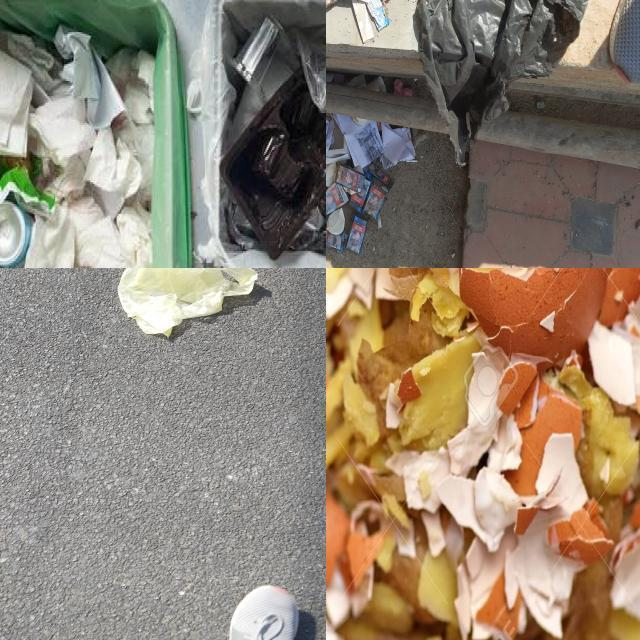Background: (0, 268, 326, 640)
Cig_pack: (349, 164, 394, 220), (367, 164, 394, 194), (346, 216, 367, 253), (363, 185, 385, 220), (326, 183, 349, 216), (337, 166, 364, 192), (350, 180, 371, 213), (326, 227, 345, 251), (337, 167, 354, 187), (366, 176, 368, 178)
Garbage: (326, 268, 640, 640), (0, 25, 155, 268), (326, 115, 415, 253)
Metal: (0, 201, 32, 268)
Plastic: (221, 68, 326, 259)
Plastic_Bag: (0, 268, 326, 640), (418, 0, 588, 166), (118, 268, 258, 336)
Plastic_wraper: (367, 0, 389, 31)
contaminated_waste: (0, 25, 155, 268), (219, 47, 326, 259), (230, 17, 301, 146)
